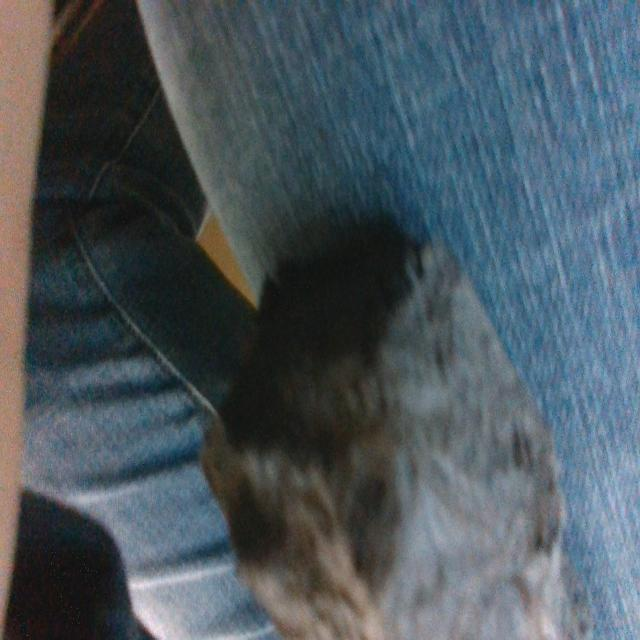stone: (199, 236, 597, 640)
